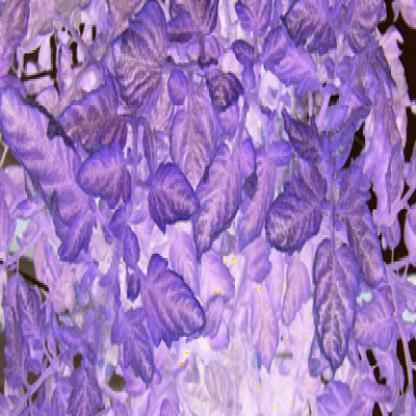Tomato leaf yellow virus: (7, 73, 108, 237), (304, 237, 372, 379), (190, 131, 256, 268), (263, 154, 333, 258), (137, 258, 208, 354), (113, 8, 174, 116), (140, 158, 210, 239), (75, 139, 132, 210), (114, 291, 154, 381)
